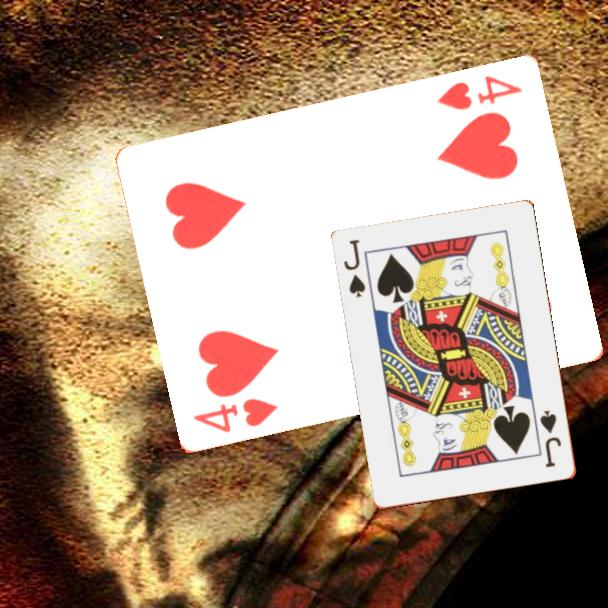h04: (432, 73, 525, 114), (189, 395, 281, 436)
s11: (537, 407, 565, 471), (341, 236, 369, 300)
